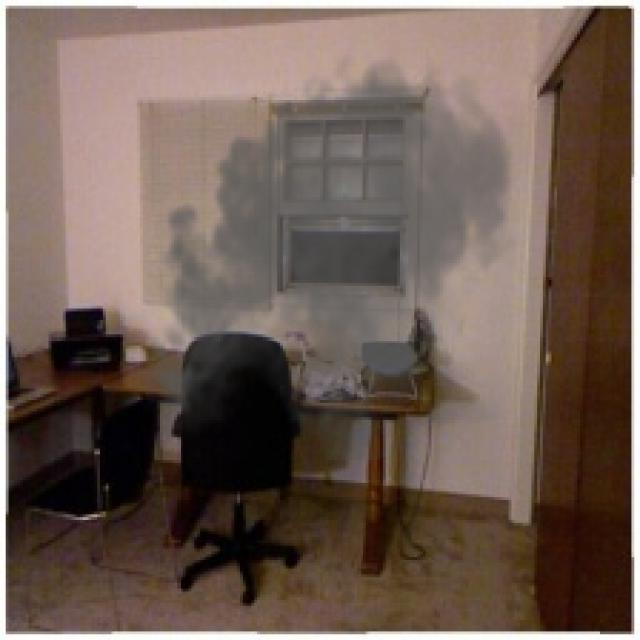smoke: (140, 40, 520, 460)
